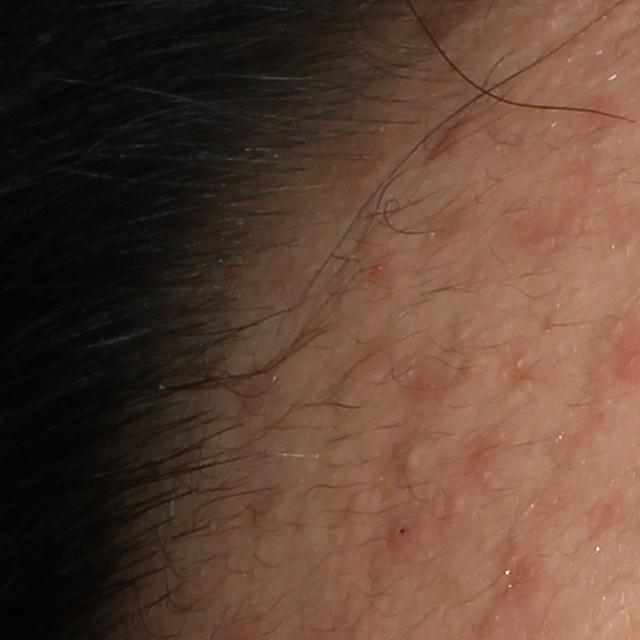comedo: (399, 435, 428, 475)
papule: (370, 257, 396, 284)
